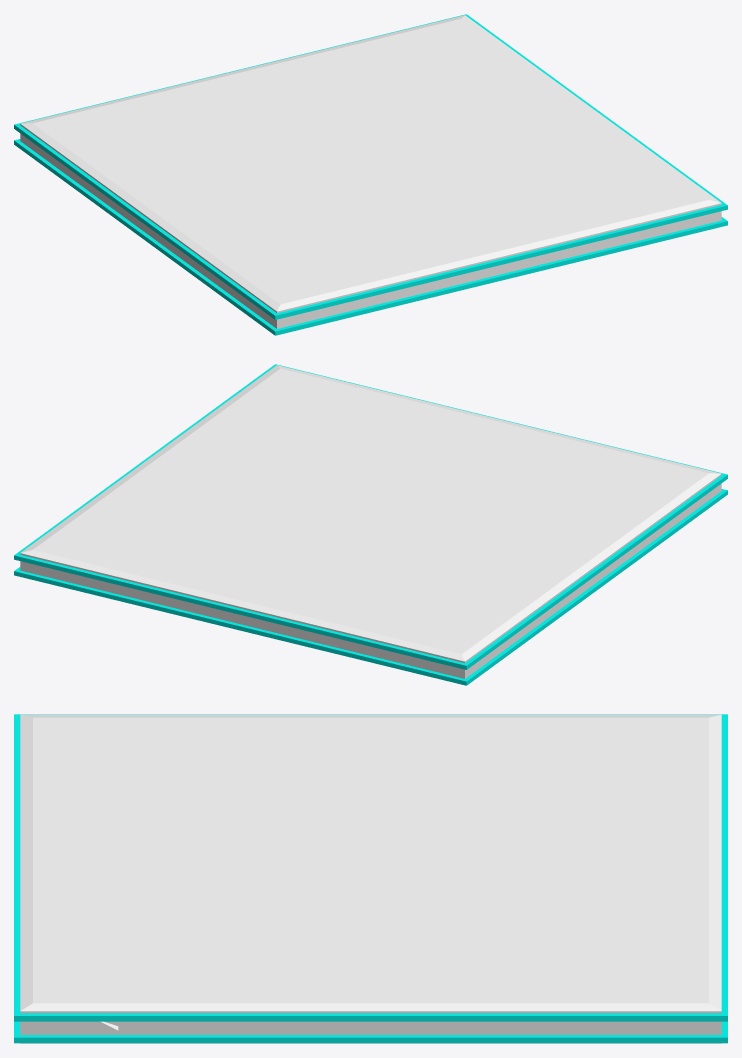
File: platform.fbx
The picture shows the model from 3 angles, top to bottom: view 1: azimuth 30°, elevation 25°; view 2: azimuth 150°, elevation 25°; view 3: azimuth 270°, elevation 25°; orthographic projection. The views are drawn at different scales.
Visible parts, largest first — view 1: Cube, Cube.001; view 2: Cube, Cube.001; view 3: Cube, Cube.001.
Boxes of the visible parts, box(x1,y1,x2,y2) form: Cube: box(20, 15, 721, 328); Cube.001: box(14, 14, 727, 335); Cube: box(20, 365, 721, 678); Cube.001: box(14, 364, 727, 685); Cube: box(20, 714, 721, 1043); Cube.001: box(14, 714, 727, 1043).
Bounding box in the file's own units: 659 × 38.18 × 655.
